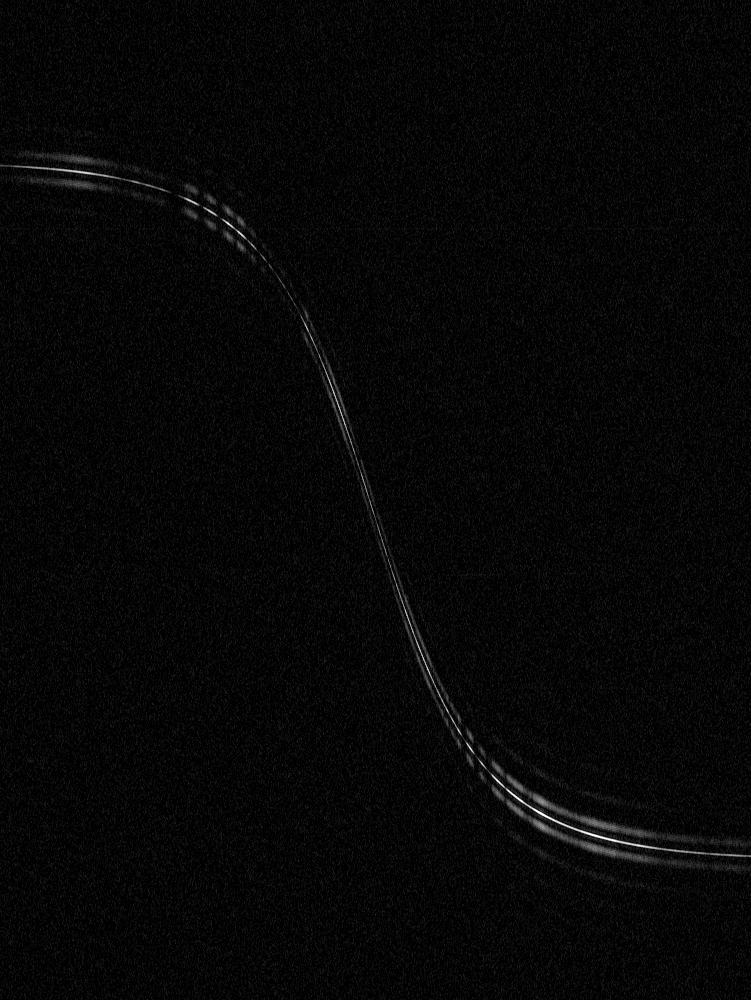signal: (0, 0, 750, 999)
